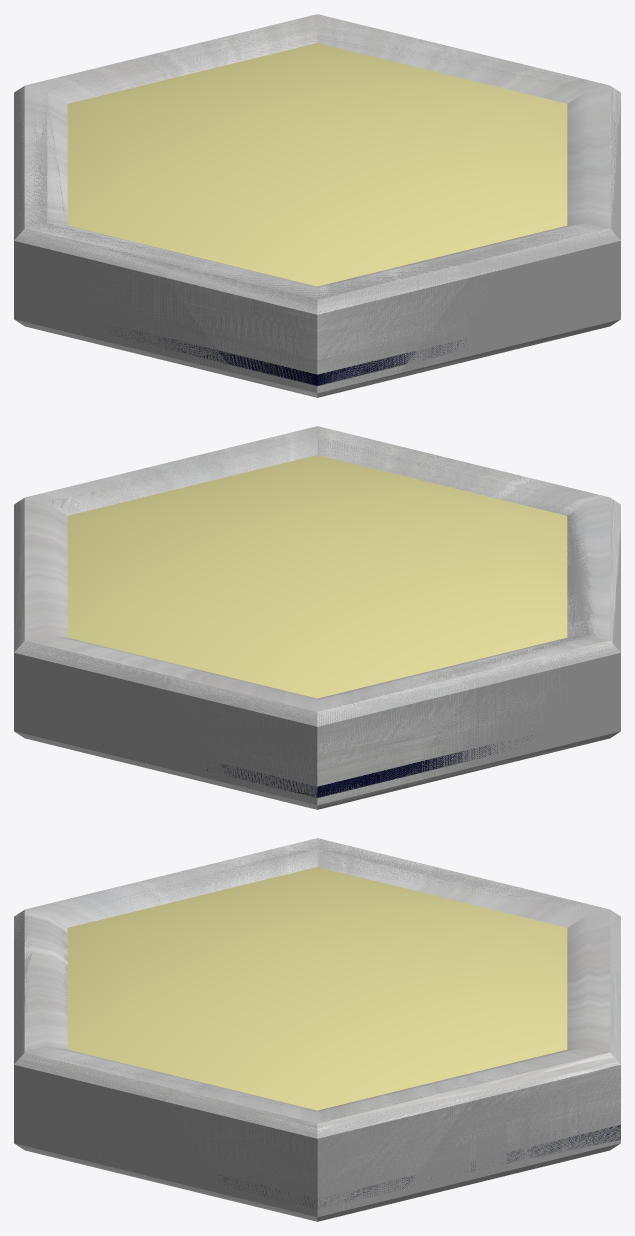
The model's file is Museum_Hex_Floor_Piece_Art.fbx.
3 renders of one model, top to bottom at view 1: azimuth 30°, elevation 25°; view 2: azimuth 150°, elevation 25°; view 3: azimuth 270°, elevation 25°, orthographic.
Visible parts, largest first — view 1: Museum_Hex_Floor_Piece_a, Museum_Hex_Floor_Piece_b; view 2: Museum_Hex_Floor_Piece_a, Museum_Hex_Floor_Piece_b; view 3: Museum_Hex_Floor_Piece_a, Museum_Hex_Floor_Piece_b.
Boxes of the visible parts, x1,y1,x2,y2 form: Museum_Hex_Floor_Piece_a: (15,14,620,397); Museum_Hex_Floor_Piece_b: (14,15,620,396); Museum_Hex_Floor_Piece_a: (14,426,620,807); Museum_Hex_Floor_Piece_b: (14,426,620,809); Museum_Hex_Floor_Piece_a: (14,838,620,1221); Museum_Hex_Floor_Piece_b: (14,839,620,1221).
Size of what is drawn, in the model's own units: 1407 by 336 by 1218.
4 materials, 1 textured.
